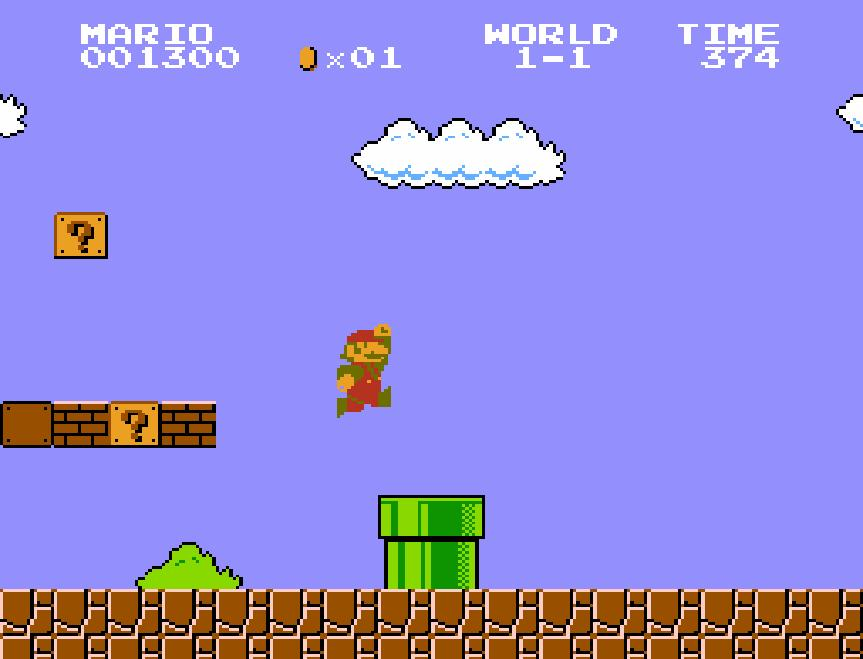big_mario: (335, 322, 393, 420)
